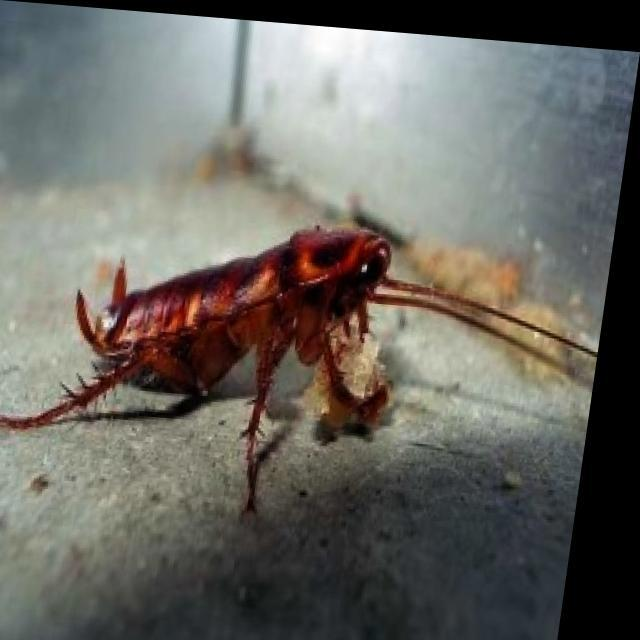cockroach: (2, 214, 599, 524)
